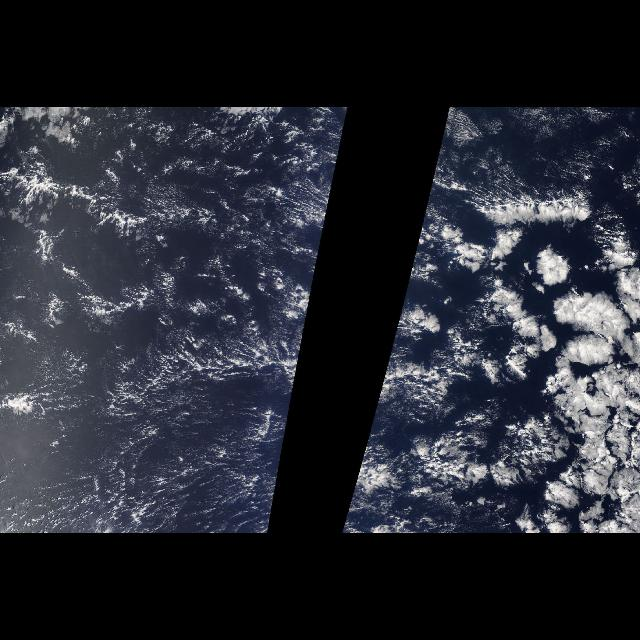Flower: (437, 182, 639, 532)
Sugar: (8, 391, 286, 533)
